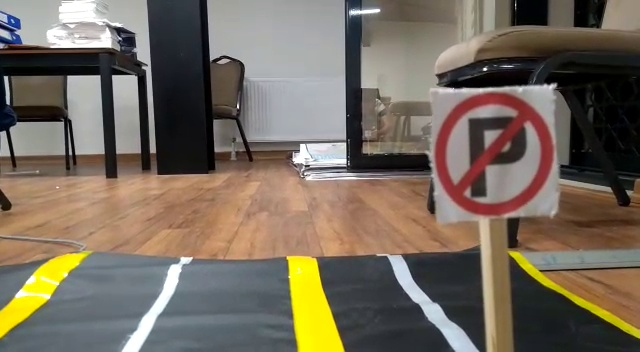park_yapilmaz: (428, 84, 564, 218)
